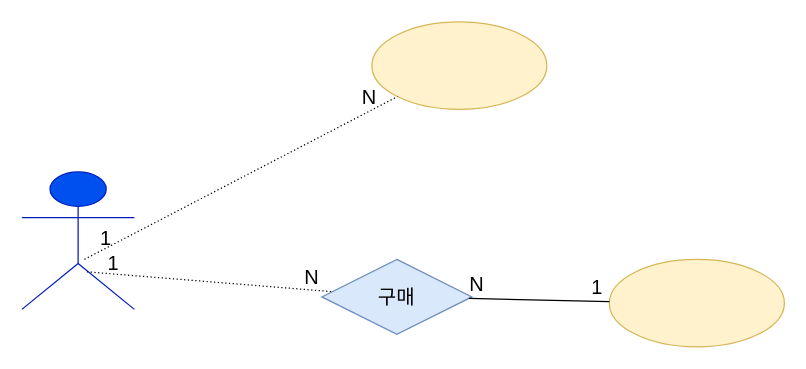
Image size: 806x369. Some labels were removed from this diagram. Each missing label, with the centre of its shape:
게시판: pixel 459 65
물품: pixel 696 302
